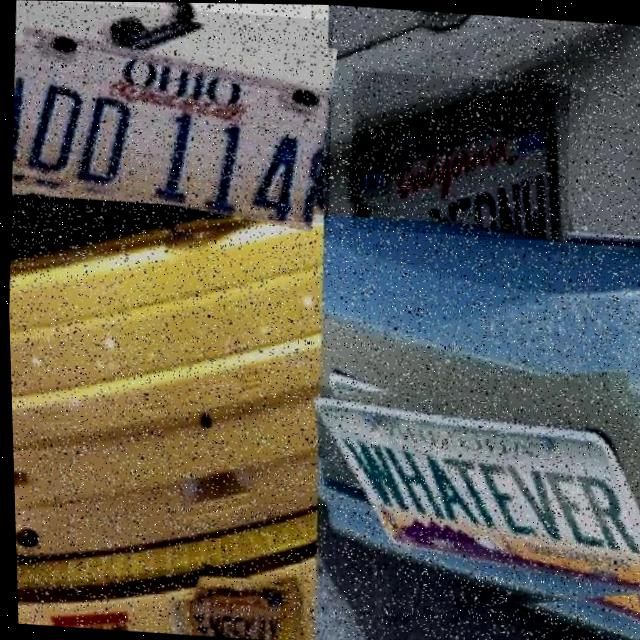LicensePlate: (6, 0, 338, 223), (310, 396, 640, 587), (351, 83, 565, 241), (184, 566, 302, 640)
